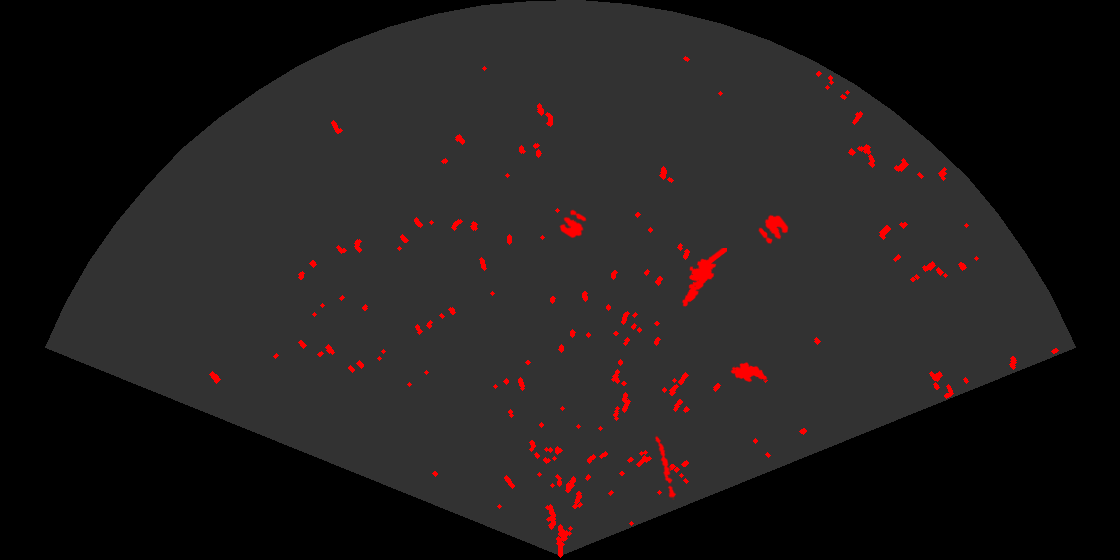AUV: (729, 360, 769, 384)
ball: (757, 213, 790, 246), (558, 208, 588, 240)
chain: (653, 433, 678, 500)
frogman: (680, 248, 727, 308)
